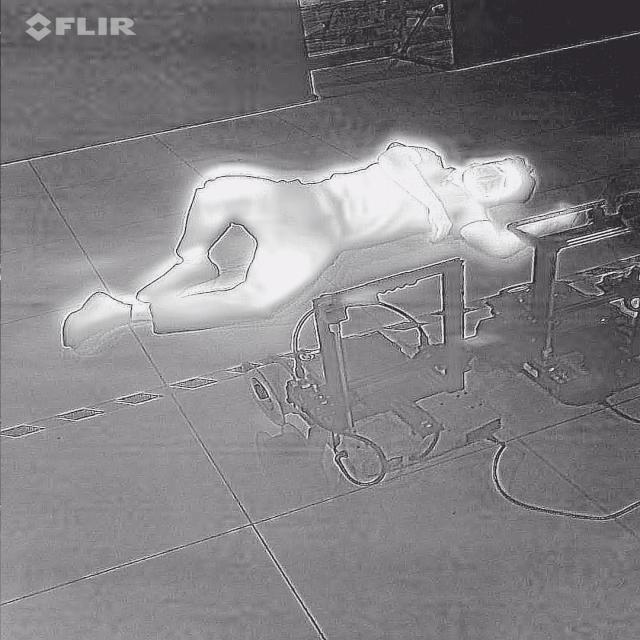Victim: (48, 127, 597, 362)
